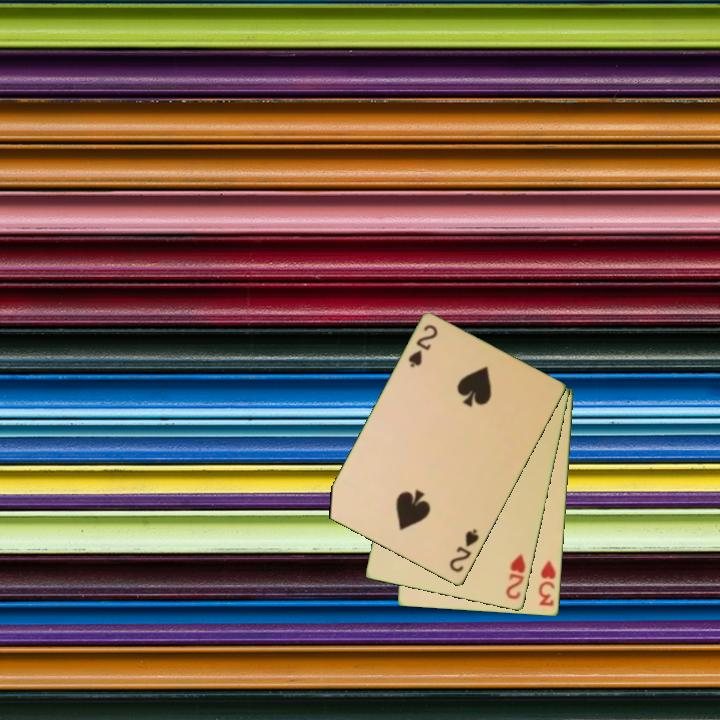2h: (503, 550, 529, 603)
2s: (446, 525, 482, 576), (405, 321, 441, 371)
3h: (535, 557, 559, 610)
